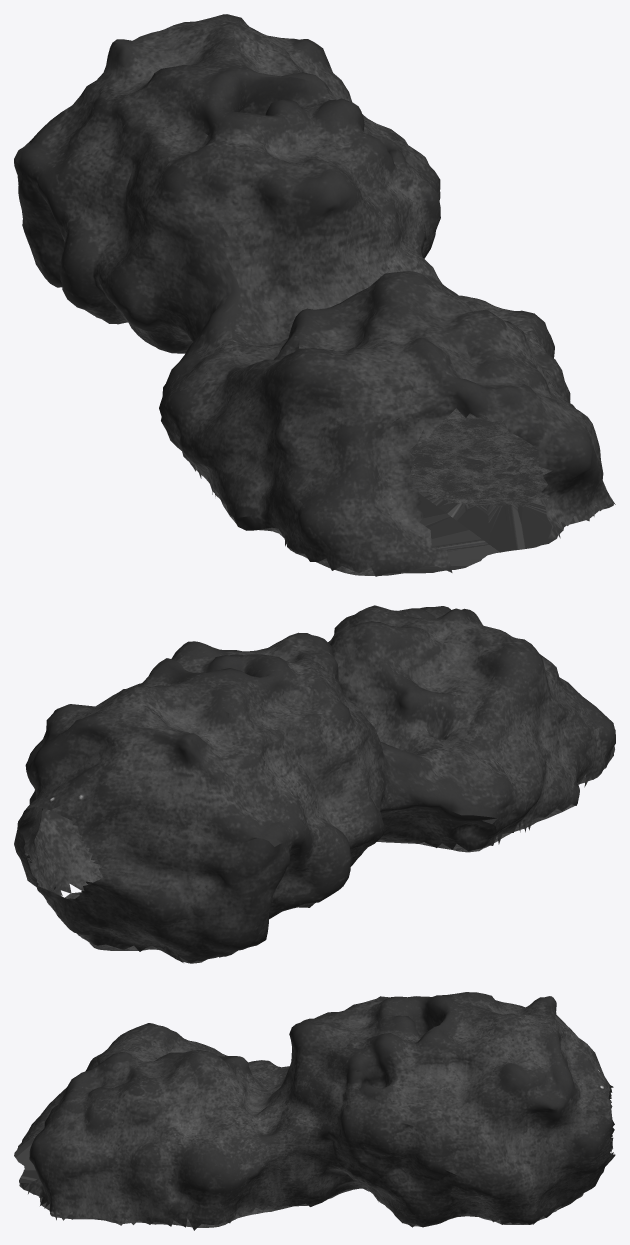
Rendered from cave_lp.glb.
3 views of the same model, one above another, from view 1: azimuth 30°, elevation 25°; view 2: azimuth 150°, elevation 25°; view 3: azimuth 270°, elevation 25° (orthographic). The views are drawn at different scales.
Parts seen in each view (by area): view 1: CaveShell; view 2: CaveShell; view 3: CaveShell.
Boxes of the visible parts, x1,y1,x2,y2 form: CaveShell: [14, 14, 615, 576]; CaveShell: [14, 605, 615, 963]; CaveShell: [14, 992, 615, 1230].
Size of the model in its own units: 3 by 1.97 by 5.81.
1 material, 1 textured.
